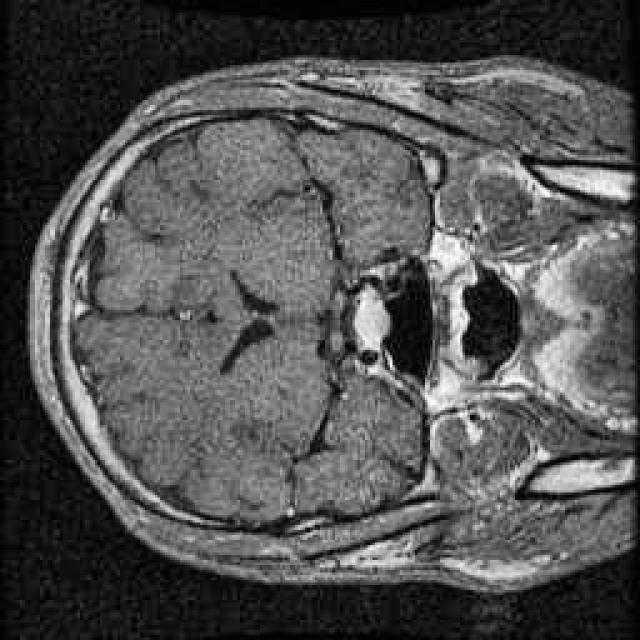Tumor: (350, 280, 395, 360)
